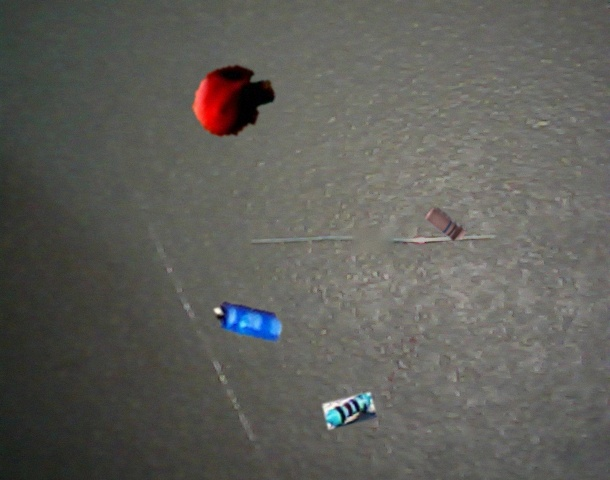capacitor: (192, 65, 275, 137), (214, 301, 282, 343)
resistor: (322, 392, 377, 429), (424, 207, 467, 241)
